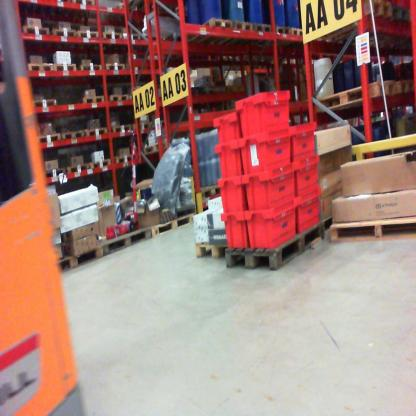forklift: (2, 3, 112, 415)
pallet: (220, 221, 325, 270), (324, 207, 415, 247), (309, 69, 397, 108), (320, 2, 394, 48), (145, 206, 196, 250), (100, 223, 151, 262), (184, 15, 231, 54), (56, 241, 105, 275), (194, 234, 225, 261), (230, 13, 254, 43), (89, 151, 112, 179), (31, 91, 56, 116), (102, 89, 130, 111), (197, 178, 225, 200), (24, 58, 53, 79), (61, 125, 85, 150), (35, 127, 61, 150), (115, 147, 140, 170), (393, 71, 415, 97), (76, 26, 103, 47), (43, 163, 67, 186), (138, 141, 177, 155), (23, 24, 52, 42), (81, 91, 104, 113), (109, 118, 133, 139), (66, 159, 90, 180), (291, 19, 309, 47), (126, 118, 155, 135), (50, 24, 75, 43), (53, 61, 79, 79), (394, 2, 412, 27), (272, 21, 291, 43), (252, 23, 274, 40), (81, 61, 102, 77), (85, 125, 109, 139), (103, 30, 122, 47), (104, 60, 125, 75)
small_load_carrier: (233, 83, 292, 142), (242, 194, 300, 251), (243, 123, 294, 183), (239, 161, 295, 208), (290, 178, 329, 235), (286, 115, 321, 168), (285, 147, 326, 192), (211, 136, 249, 183), (213, 166, 247, 217), (208, 102, 239, 148), (214, 210, 247, 252)
